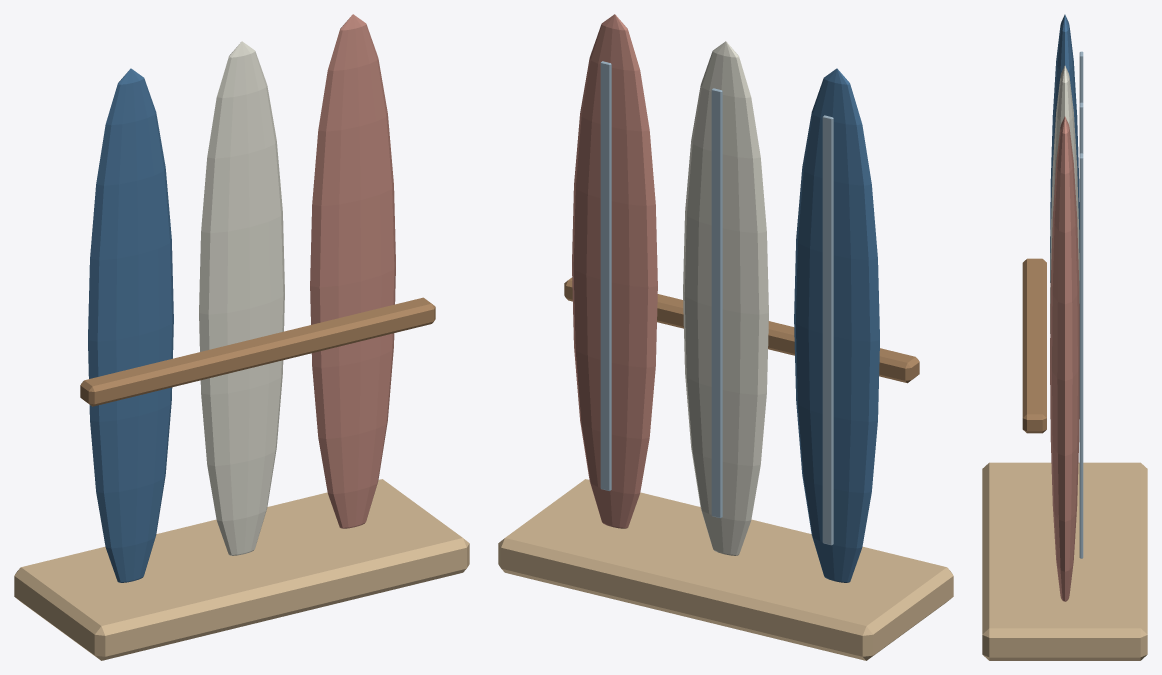
The model's file is surfboard_rack.glb.
The picture shows the model from 3 angles, left to right: view 1: azimuth 30°, elevation 25°; view 2: azimuth 150°, elevation 25°; view 3: azimuth 270°, elevation 25°; orthographic projection. The views are drawn at different scales.
Visible parts, largest first — view 1: surfboard (×3), rack_base, rack_crossbar; view 2: surfboard (×3), rack_base, board_stripe (×3), rack_crossbar; view 3: rack_base, surfboard (×3), rack_crossbar, board_stripe.
Boxes of the visible parts, box(x1,y1,x2,y2) form: surfboard (×3): box(88, 14, 395, 582); rack_base: box(14, 479, 469, 660); rack_crossbar: box(80, 297, 435, 406); surfboard (×3): box(572, 14, 879, 582); rack_base: box(498, 479, 953, 660); board_stripe (×3): box(600, 61, 833, 545); rack_crossbar: box(564, 277, 919, 383); rack_base: box(982, 462, 1147, 660); surfboard (×3): box(1050, 14, 1079, 601); rack_crossbar: box(1022, 258, 1046, 433); board_stripe: box(1079, 153, 1083, 558).
Size of the model in its own units: 1.35 by 1.88 by 0.55.
